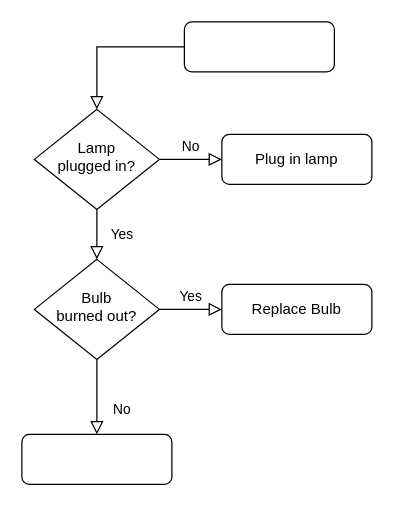
The diagram is 394 pixels wide and 506 high, and some of its shapes have lost their labels. Each missing label, with the centre of its shape:
freak out: [96,458]
Lamp doesn't work: [258,46]
